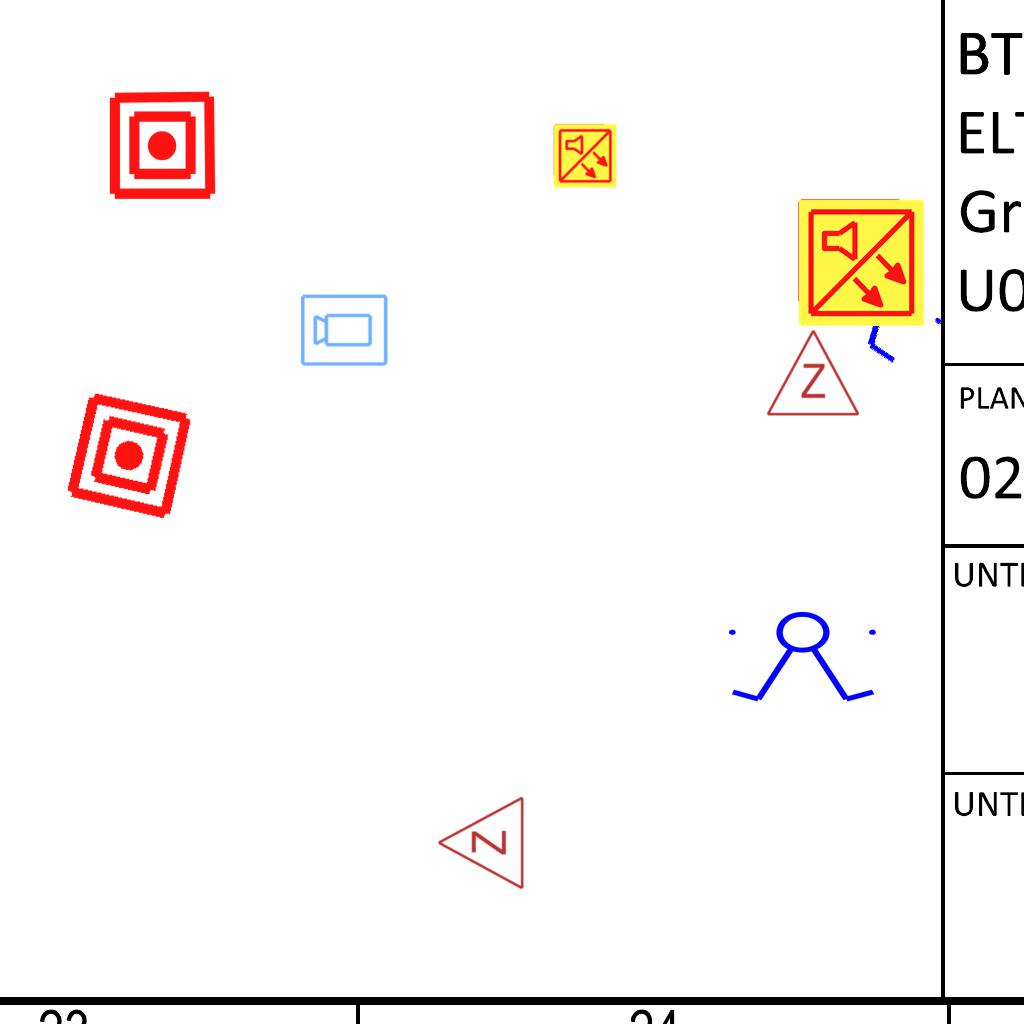KFO_Kamera_mit_Festobjektiv: (299, 291, 390, 368)
NAM-Nichtautomatischer_Melder: (61, 387, 198, 524), (106, 89, 219, 202)
OKW_Multisensormelder_(Kombination_optischer_Rauch-Kahlenmonoxid_Waerme-Melder): (795, 197, 927, 329), (552, 123, 618, 189)
Serienschalter: (782, 191, 966, 381), (720, 610, 888, 706)
Zimmersignalleuchte: (431, 795, 531, 893), (763, 323, 861, 423)
